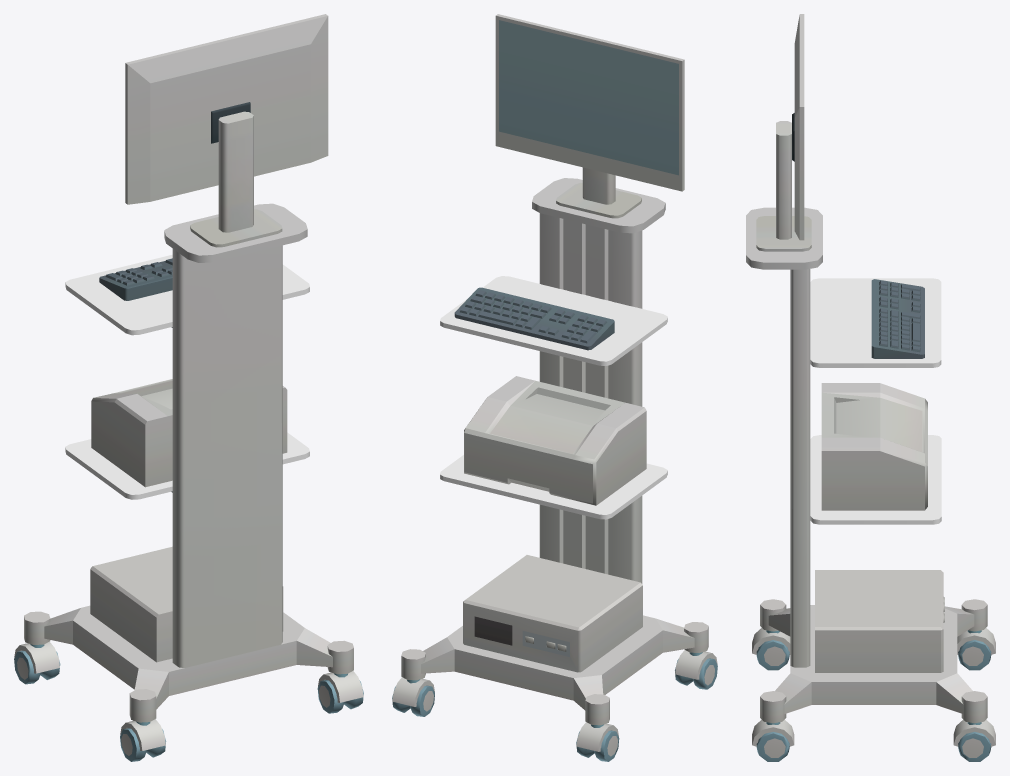
Rendered from Pfb_JLAB_Colposcope_Stand.fbx.
3 views of the same model, side by side, from view 1: azimuth 30°, elevation 25°; view 2: azimuth 150°, elevation 25°; view 3: azimuth 270°, elevation 25° (orthographic). The views are drawn at different scales.
Parts seen in each view (by area): view 1: Color, Glass; view 2: Color, Glass; view 3: Color, Glass.
Boxes of the visible parts, bbox=[...] form: Color: bbox=[14, 14, 363, 761]; Glass: bbox=[65, 254, 309, 499]; Color: bbox=[392, 14, 717, 761]; Glass: bbox=[440, 276, 667, 519]; Color: bbox=[746, 14, 995, 761]; Glass: bbox=[810, 278, 941, 524].
Size of the model in its own units: 0.6377 by 1.82 by 0.6349.
Materials: 2 (2 with a texture image).
